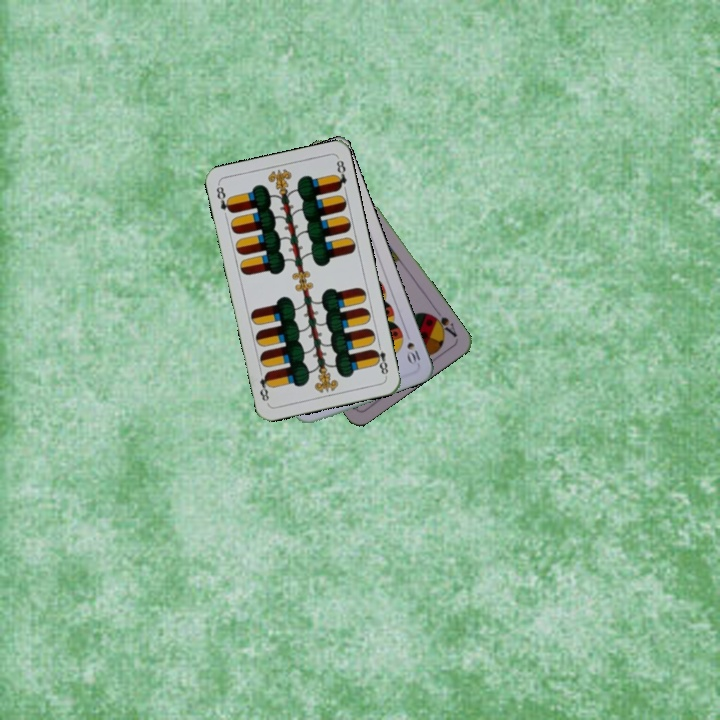E8: (369, 339, 391, 379), (212, 182, 235, 216)
S10: (401, 328, 425, 367)
SA: (426, 310, 459, 340)
